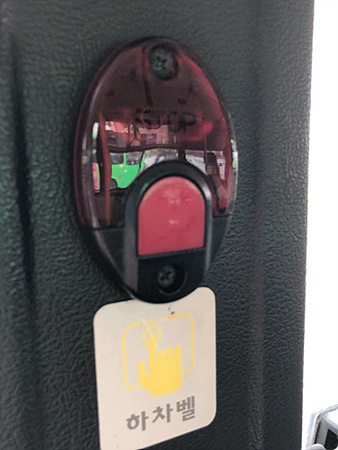bell: (72, 33, 239, 303)
